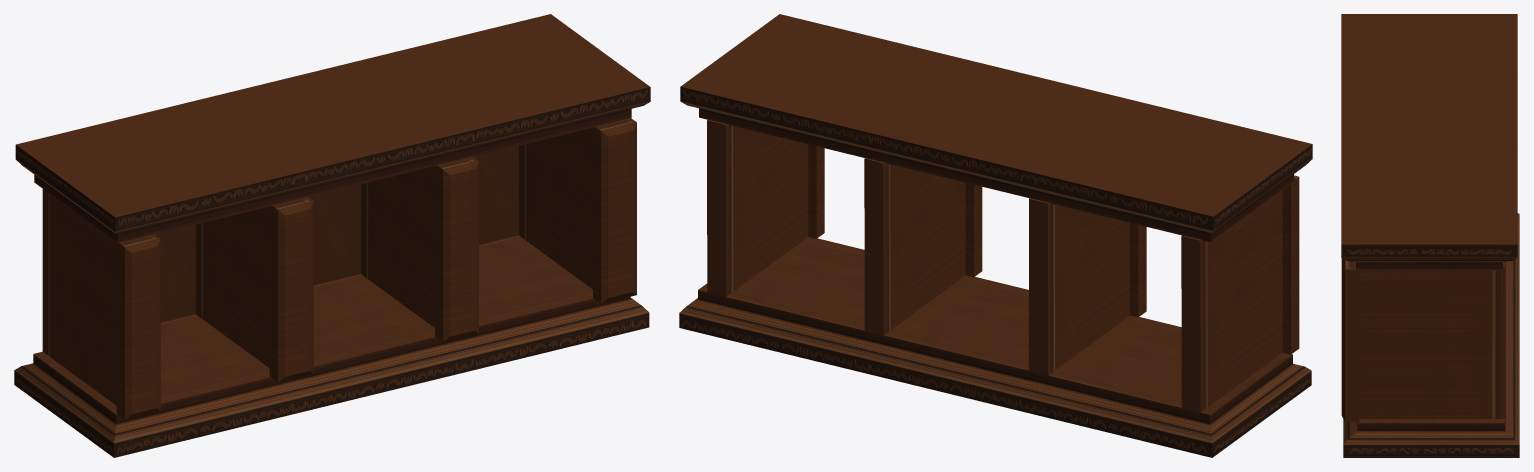
Rendered from Modular_CabinetOpen_Three.fbx.
3 renders of one model, left to right at view 1: azimuth 30°, elevation 25°; view 2: azimuth 150°, elevation 25°; view 3: azimuth 270°, elevation 25°, orthographic. The views are drawn at different scales.
Visible parts, largest first — view 1: Bevelled_LFT_TnB6, Bevelled_RT_TnB8, Bevelled_MID_TnB7, Blocky_SB1, Bevelled_LFT_TnB5, Blocky_SB2, Blocky_SB3, Blocky_SB4, Bevelled_MID_TnB6, Bevelled_RT_TnB7, InsidePanels_Base18, InsidePanels_Base19 (+1 smaller); view 2: Bevelled_LFT_TnB6, Bevelled_RT_TnB8, Bevelled_MID_TnB7, Bevelled_LFT_TnB5, Blocky_SB1, Blocky_SB3, Blocky_SB4, Blocky_SB2, Bevelled_RT_TnB7, Bevelled_MID_TnB6; view 3: Blocky_SB4, Bevelled_RT_TnB8, Bevelled_LFT_TnB6, Bevelled_MID_TnB7, Bevelled_RT_TnB7, Bevelled_MID_TnB6, Bevelled_LFT_TnB5.
Part boxes in pixels (x1,y1,x2,y2): Bevelled_LFT_TnB6: [15, 99, 300, 243]; Bevelled_RT_TnB8: [366, 14, 650, 159]; Bevelled_MID_TnB7: [201, 59, 465, 200]; Blocky_SB1: [42, 189, 160, 419]; Bevelled_LFT_TnB5: [14, 314, 299, 457]; Blocky_SB2: [195, 197, 313, 382]; Blocky_SB3: [361, 156, 478, 342]; Blocky_SB4: [519, 118, 636, 303]; Bevelled_MID_TnB6: [291, 274, 464, 412]; Bevelled_RT_TnB7: [456, 235, 649, 372]; InsidePanels_Base18: [308, 184, 360, 285]; InsidePanels_Base19: [473, 145, 518, 244]; Bevelled_LFT_TnB6: [1029, 99, 1312, 242]; Bevelled_RT_TnB8: [680, 14, 963, 159]; Bevelled_MID_TnB7: [864, 59, 1127, 199]; Bevelled_LFT_TnB5: [1028, 315, 1311, 457]; Blocky_SB1: [1181, 175, 1299, 412]; Blocky_SB3: [864, 158, 982, 335]; Blocky_SB4: [707, 119, 824, 296]; Blocky_SB2: [1029, 198, 1146, 375]; Bevelled_RT_TnB7: [679, 237, 871, 372]; Bevelled_MID_TnB6: [863, 275, 1035, 412]; Blocky_SB4: [1341, 259, 1504, 422]; Bevelled_RT_TnB8: [1341, 165, 1517, 270]; Bevelled_LFT_TnB6: [1341, 14, 1517, 93]; Bevelled_MID_TnB7: [1341, 93, 1517, 164]; Bevelled_RT_TnB7: [1343, 356, 1519, 457]; Bevelled_MID_TnB6: [1505, 285, 1519, 364]; Bevelled_LFT_TnB5: [1505, 213, 1519, 293].
Size of the model in its own units: 214 by 92.06 by 69.77.
